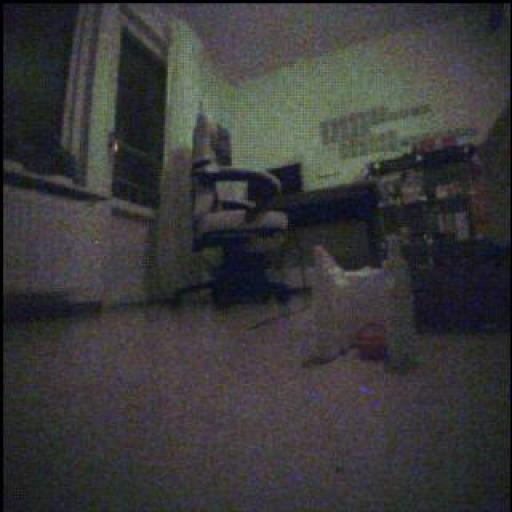basket: (358, 324, 388, 361)
